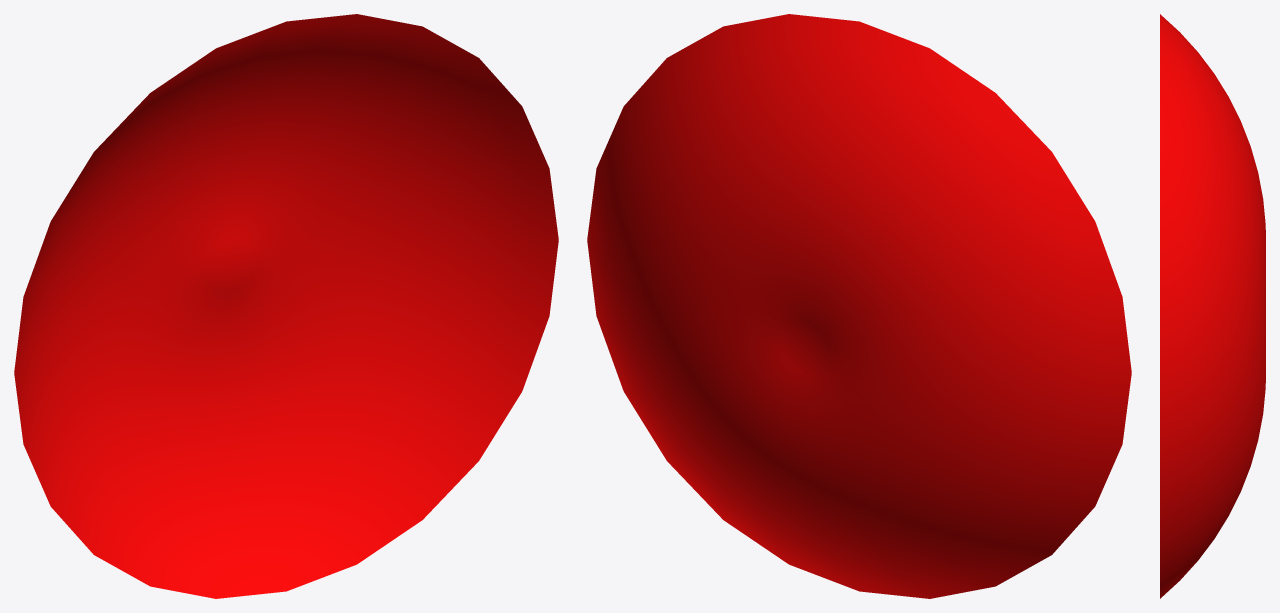
File: original-33.obj
The picture shows the model from 3 angles, left to right: view 1: azimuth 30°, elevation 25°; view 2: azimuth 150°, elevation 25°; view 3: azimuth 270°, elevation 25°; orthographic projection. The views are drawn at different scales.
Parts seen in each view (by area): view 1: mesh42/mesh42-geometry/material_0/component_4#mesh42-geometry; view 2: mesh42/mesh42-geometry/material_0/component_4#mesh42-geometry; view 3: mesh42/mesh42-geometry/material_0/component_4#mesh42-geometry.
Part boxes in pixels (left/top/right/bottom): mesh42/mesh42-geometry/material_0/component_4#mesh42-geometry: left=14, top=14, right=558, bottom=598; mesh42/mesh42-geometry/material_0/component_4#mesh42-geometry: left=587, top=14, right=1131, bottom=598; mesh42/mesh42-geometry/material_0/component_4#mesh42-geometry: left=1160, top=14, right=1265, bottom=598.
Size of the model in its own units: 0.0824 by 0.0824 by 0.0149.
